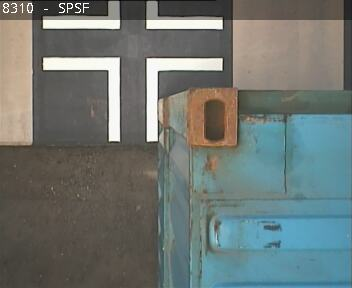groundmarker_1: (40, 56, 221, 143), (42, 1, 223, 30)
